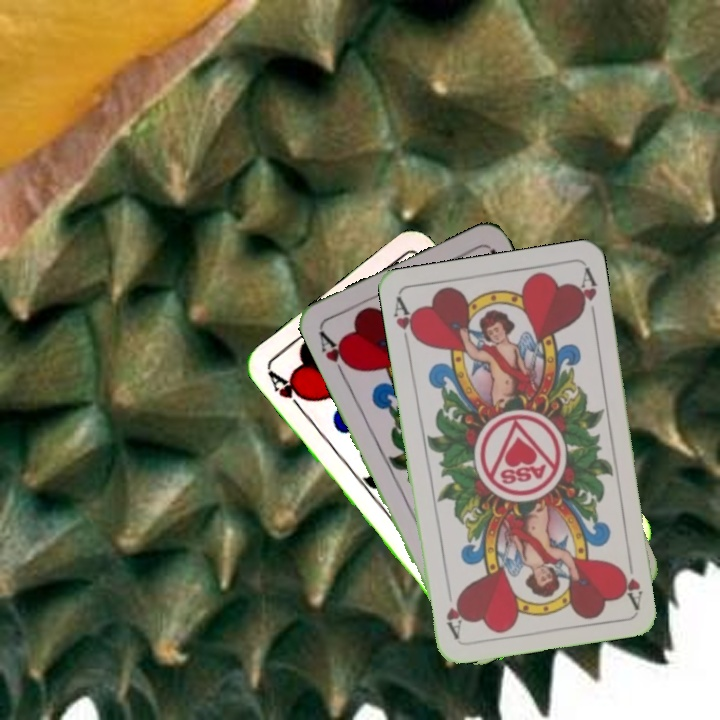HA: (263, 366, 313, 416), (315, 326, 356, 381), (389, 293, 421, 352), (618, 551, 645, 610)
